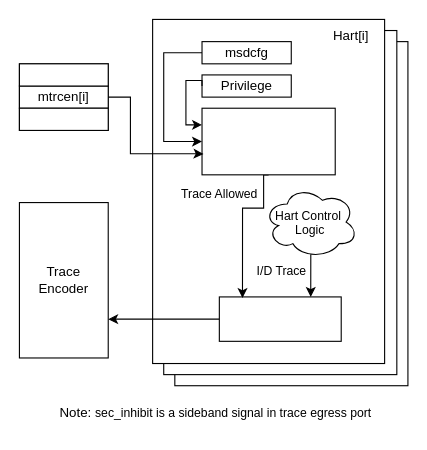
Some shapes in this 427 by 450 pixel diagram are drawn without their labels. Each missing label, with the centre of its shape:
"Trace Egress (RHTI)" belongs at (x=279, y=318).
"Trace Security Control Logic" belongs at (x=268, y=141).
